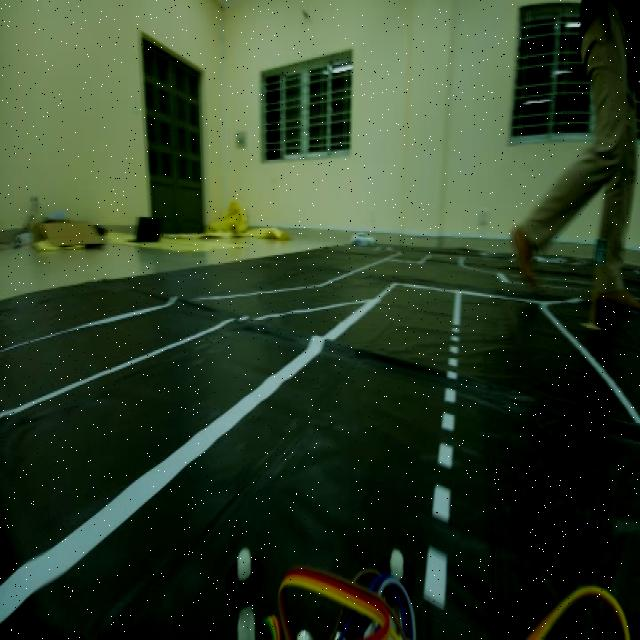highway_entry: (594, 230, 608, 272)
